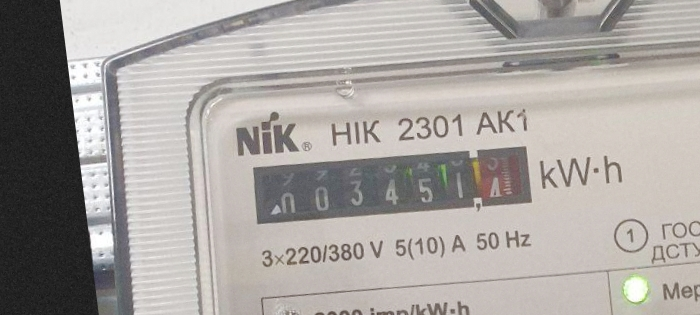0: (274, 186, 298, 215), (309, 182, 331, 212)
1: (448, 167, 468, 200)
3: (343, 175, 366, 208)
4: (378, 174, 401, 209), (481, 172, 504, 202)
5: (414, 172, 434, 205)
screen: (242, 127, 539, 244)
